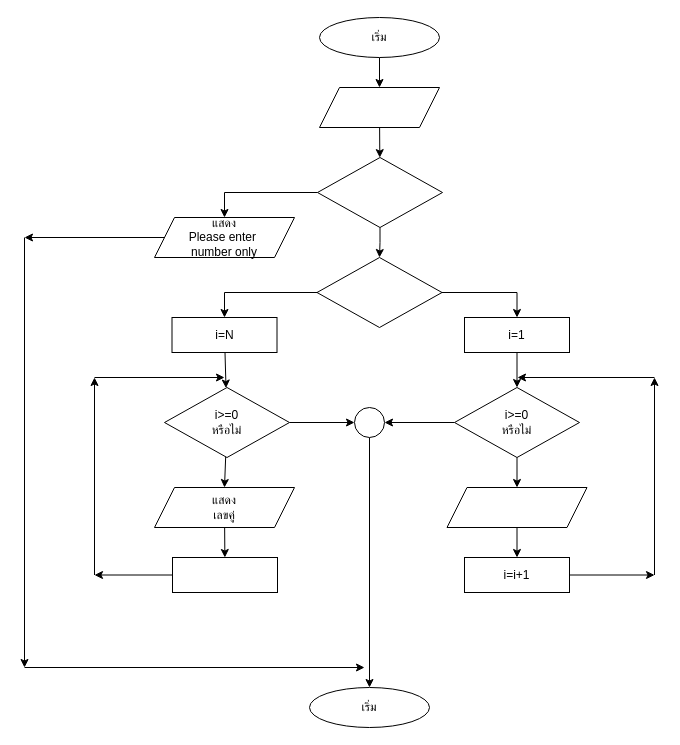
Some shapes in this 680 by 745 pixel diagram are drawn without their labels. Here are the shapes that lost their labels. From the top down, the centre of each, then its label:
At point (379, 107): "รับค่าN".
At point (379, 192): "Nเป็นจำเต็มหรือไม่".
At point (379, 292): "Nเป็นเลขคู่หรืออไม่".
At point (516, 507): "แสดง เลขคี่".
At point (225, 574): "i=i-1".
